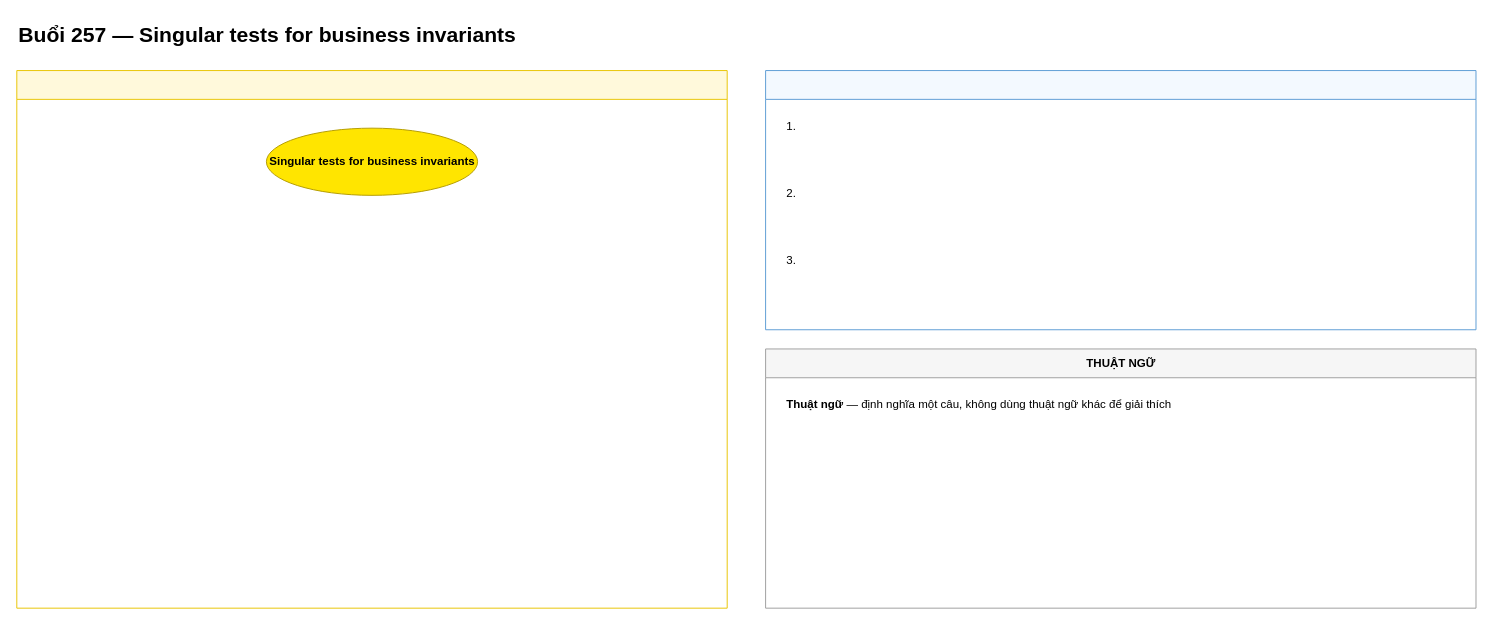
Some shapes in this 1493 by 625 pixel diagram are drawn without their labels. Each missing label, with the box of its shape:
KEY TAKEAWAY — ba điều phải nhớ: (765, 70, 1476, 330)
MINDMAP: (16, 70, 727, 608)
